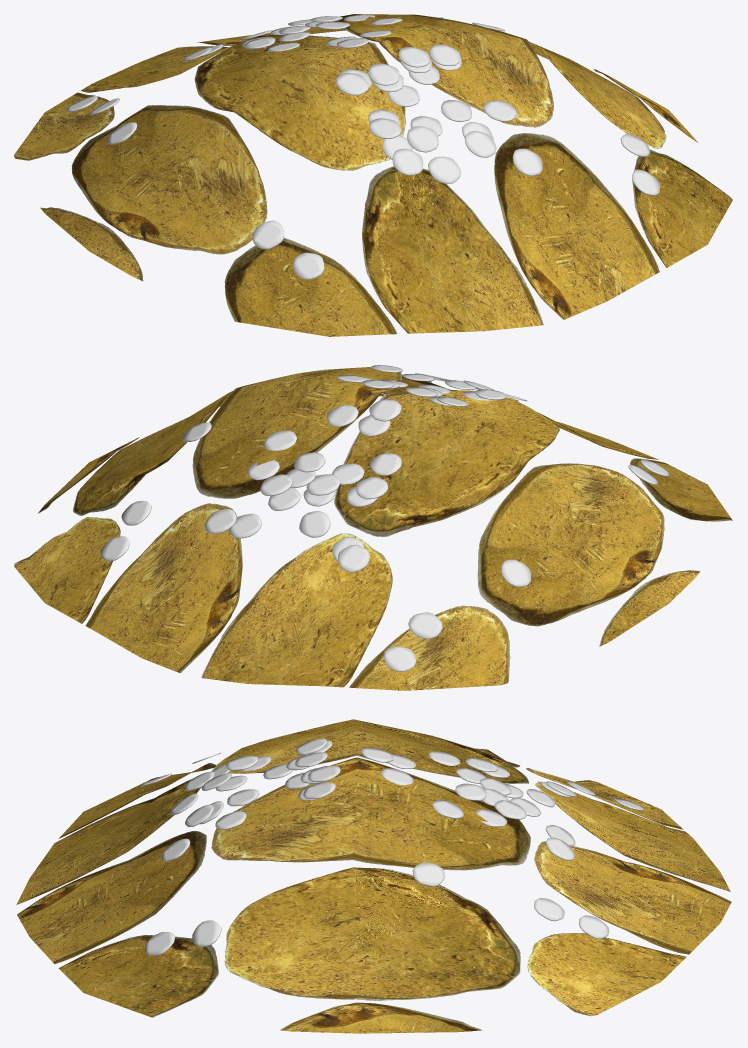
Rendered from Gold Coins_Decal.fbx.
3 renders of one model, top to bottom at view 1: azimuth 30°, elevation 25°; view 2: azimuth 150°, elevation 25°; view 3: azimuth 270°, elevation 25°, orthographic.
Visible parts, largest first — view 1: Gold Coins_Decal; view 2: Gold Coins_Decal; view 3: Gold Coins_Decal.
Boxes of the visible parts, bbox=[...] form: Gold Coins_Decal: bbox=[14, 14, 732, 336]; Gold Coins_Decal: bbox=[14, 365, 732, 690]; Gold Coins_Decal: bbox=[16, 719, 731, 1033].
Bounding box in the file's own units: 105 × 26.68 × 115.
